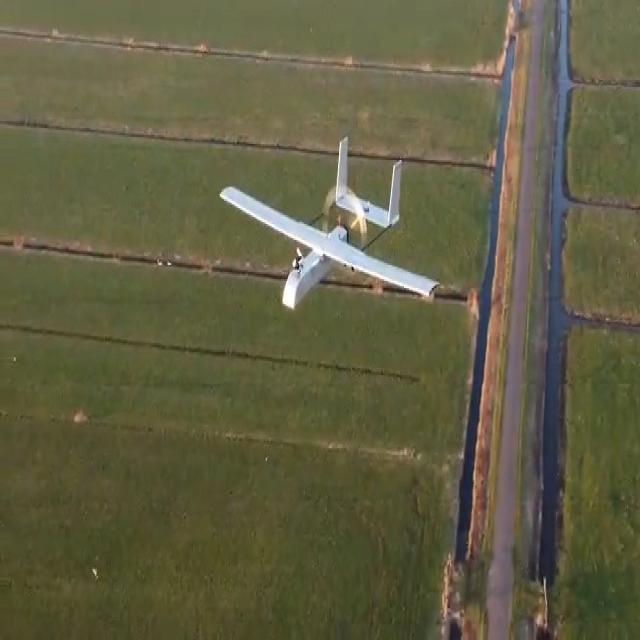iha: (227, 129, 443, 325)
